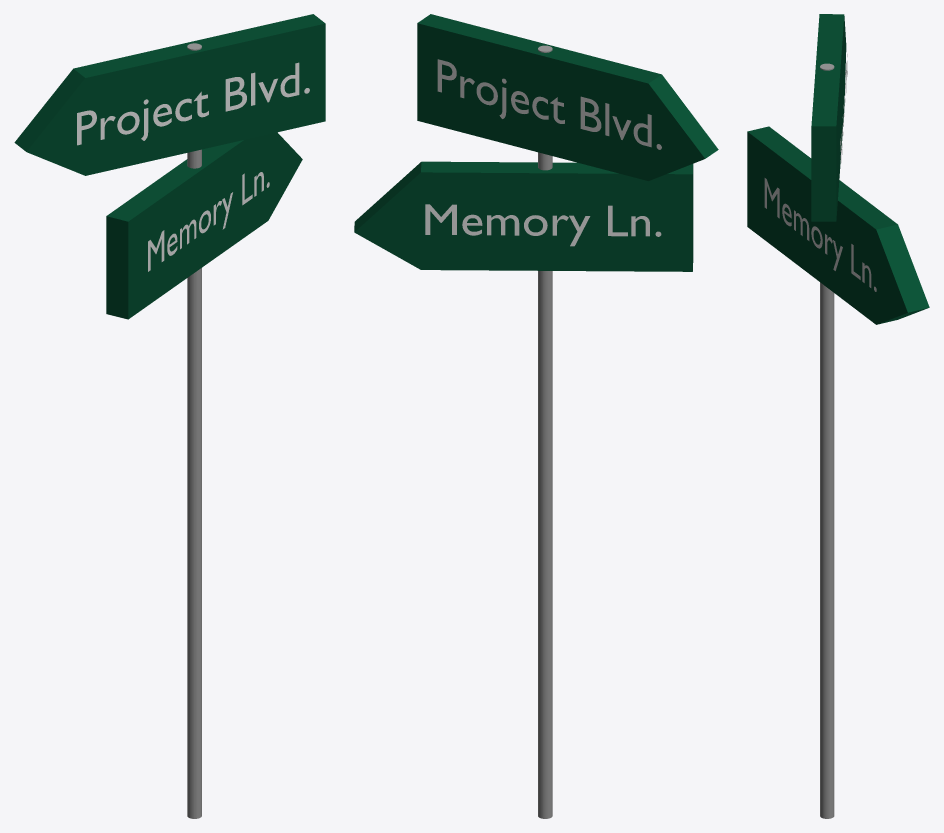
3 renders of one model, left to right at view 1: azimuth 30°, elevation 25°; view 2: azimuth 150°, elevation 25°; view 3: azimuth 270°, elevation 25°, orthographic. The views are drawn at different scales.
Parts seen in each view (by area): view 1: Top Sign.001, Bottom Sign.001, Cylinder, Project Blvd, Memory Ln; view 2: Bottom Sign.001, Top Sign.001, Cylinder, Project Blvd.001, Memory Ln.001; view 3: Bottom Sign.001, Cylinder, Top Sign.001, Memory Ln.
Part boxes in pixels (<box>): Top Sign.001: <box>14,14,325,175</box>; Bottom Sign.001: <box>106,132,302,319</box>; Cylinder: <box>187,43,201,818</box>; Project Blvd: <box>77,62,309,145</box>; Memory Ln: <box>148,172,269,271</box>; Bottom Sign.001: <box>354,161,693,271</box>; Top Sign.001: <box>417,14,718,180</box>; Cylinder: <box>538,45,552,818</box>; Project Blvd.001: <box>437,59,661,149</box>; Memory Ln.001: <box>425,204,661,246</box>; Bottom Sign.001: <box>747,126,929,324</box>; Cylinder: <box>820,63,834,818</box>; Top Sign.001: <box>811,14,846,221</box>; Memory Ln: <box>764,178,876,291</box>.
Size of the model in its own units: 0.7317 by 1.68 by 0.3702.
